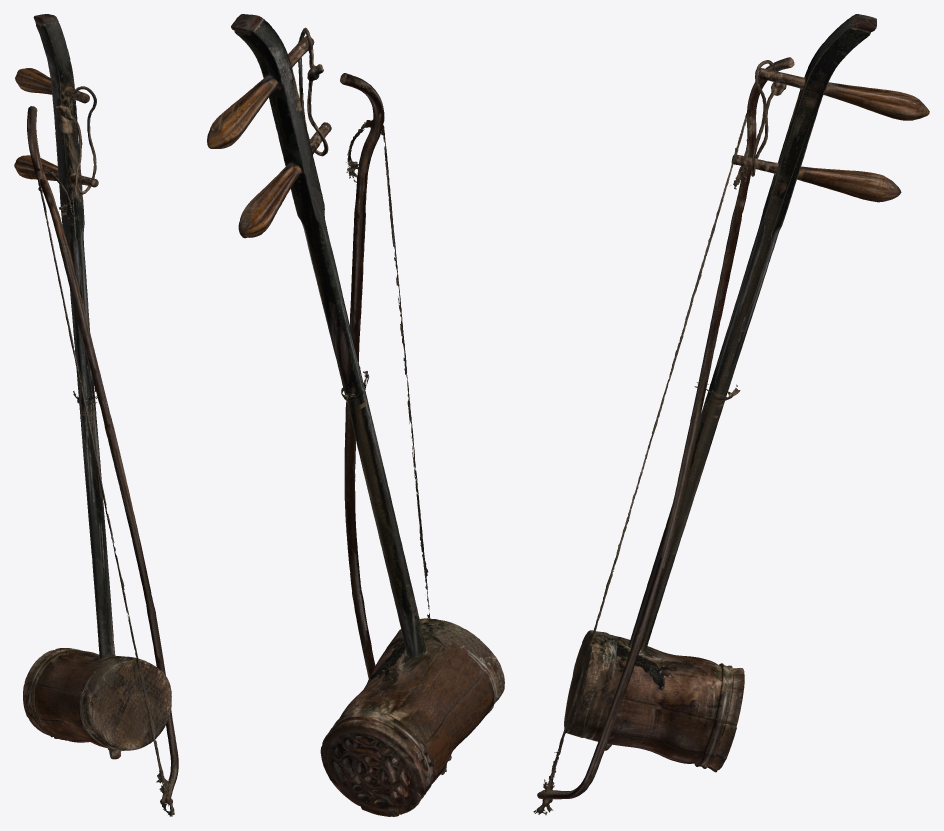
File: 吕文成用过的高胡.glb
3 renders of one model, left to right at view 1: azimuth 30°, elevation 25°; view 2: azimuth 150°, elevation 25°; view 3: azimuth 270°, elevation 25°, orthographic. The views are drawn at different scales.
Parts seen in each view (by area): view 1: default; view 2: default; view 3: default.
Boxes of the visible parts, left/top/right/bottom form: default: left=14, top=14, right=178, bottom=816; default: left=207, top=14, right=504, bottom=816; default: left=533, top=14, right=929, bottom=815.
Bounding box in the file's own units: 104 × 738 × 328.
1 material, 1 textured.
